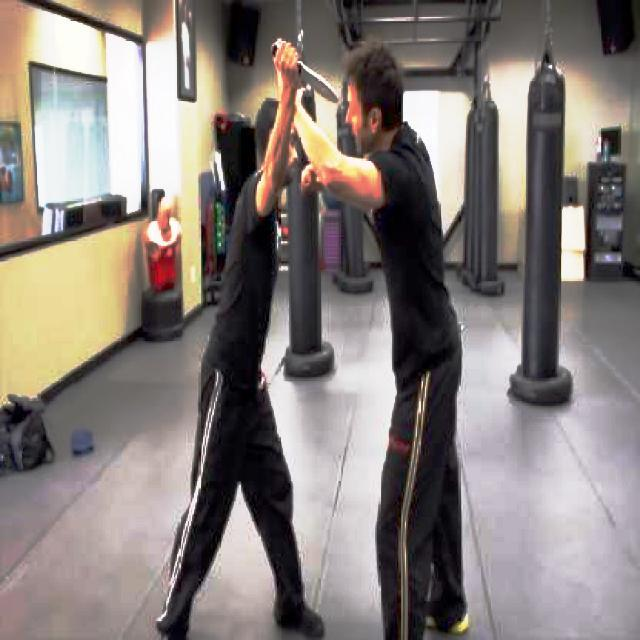Knife: (270, 42, 342, 106)
